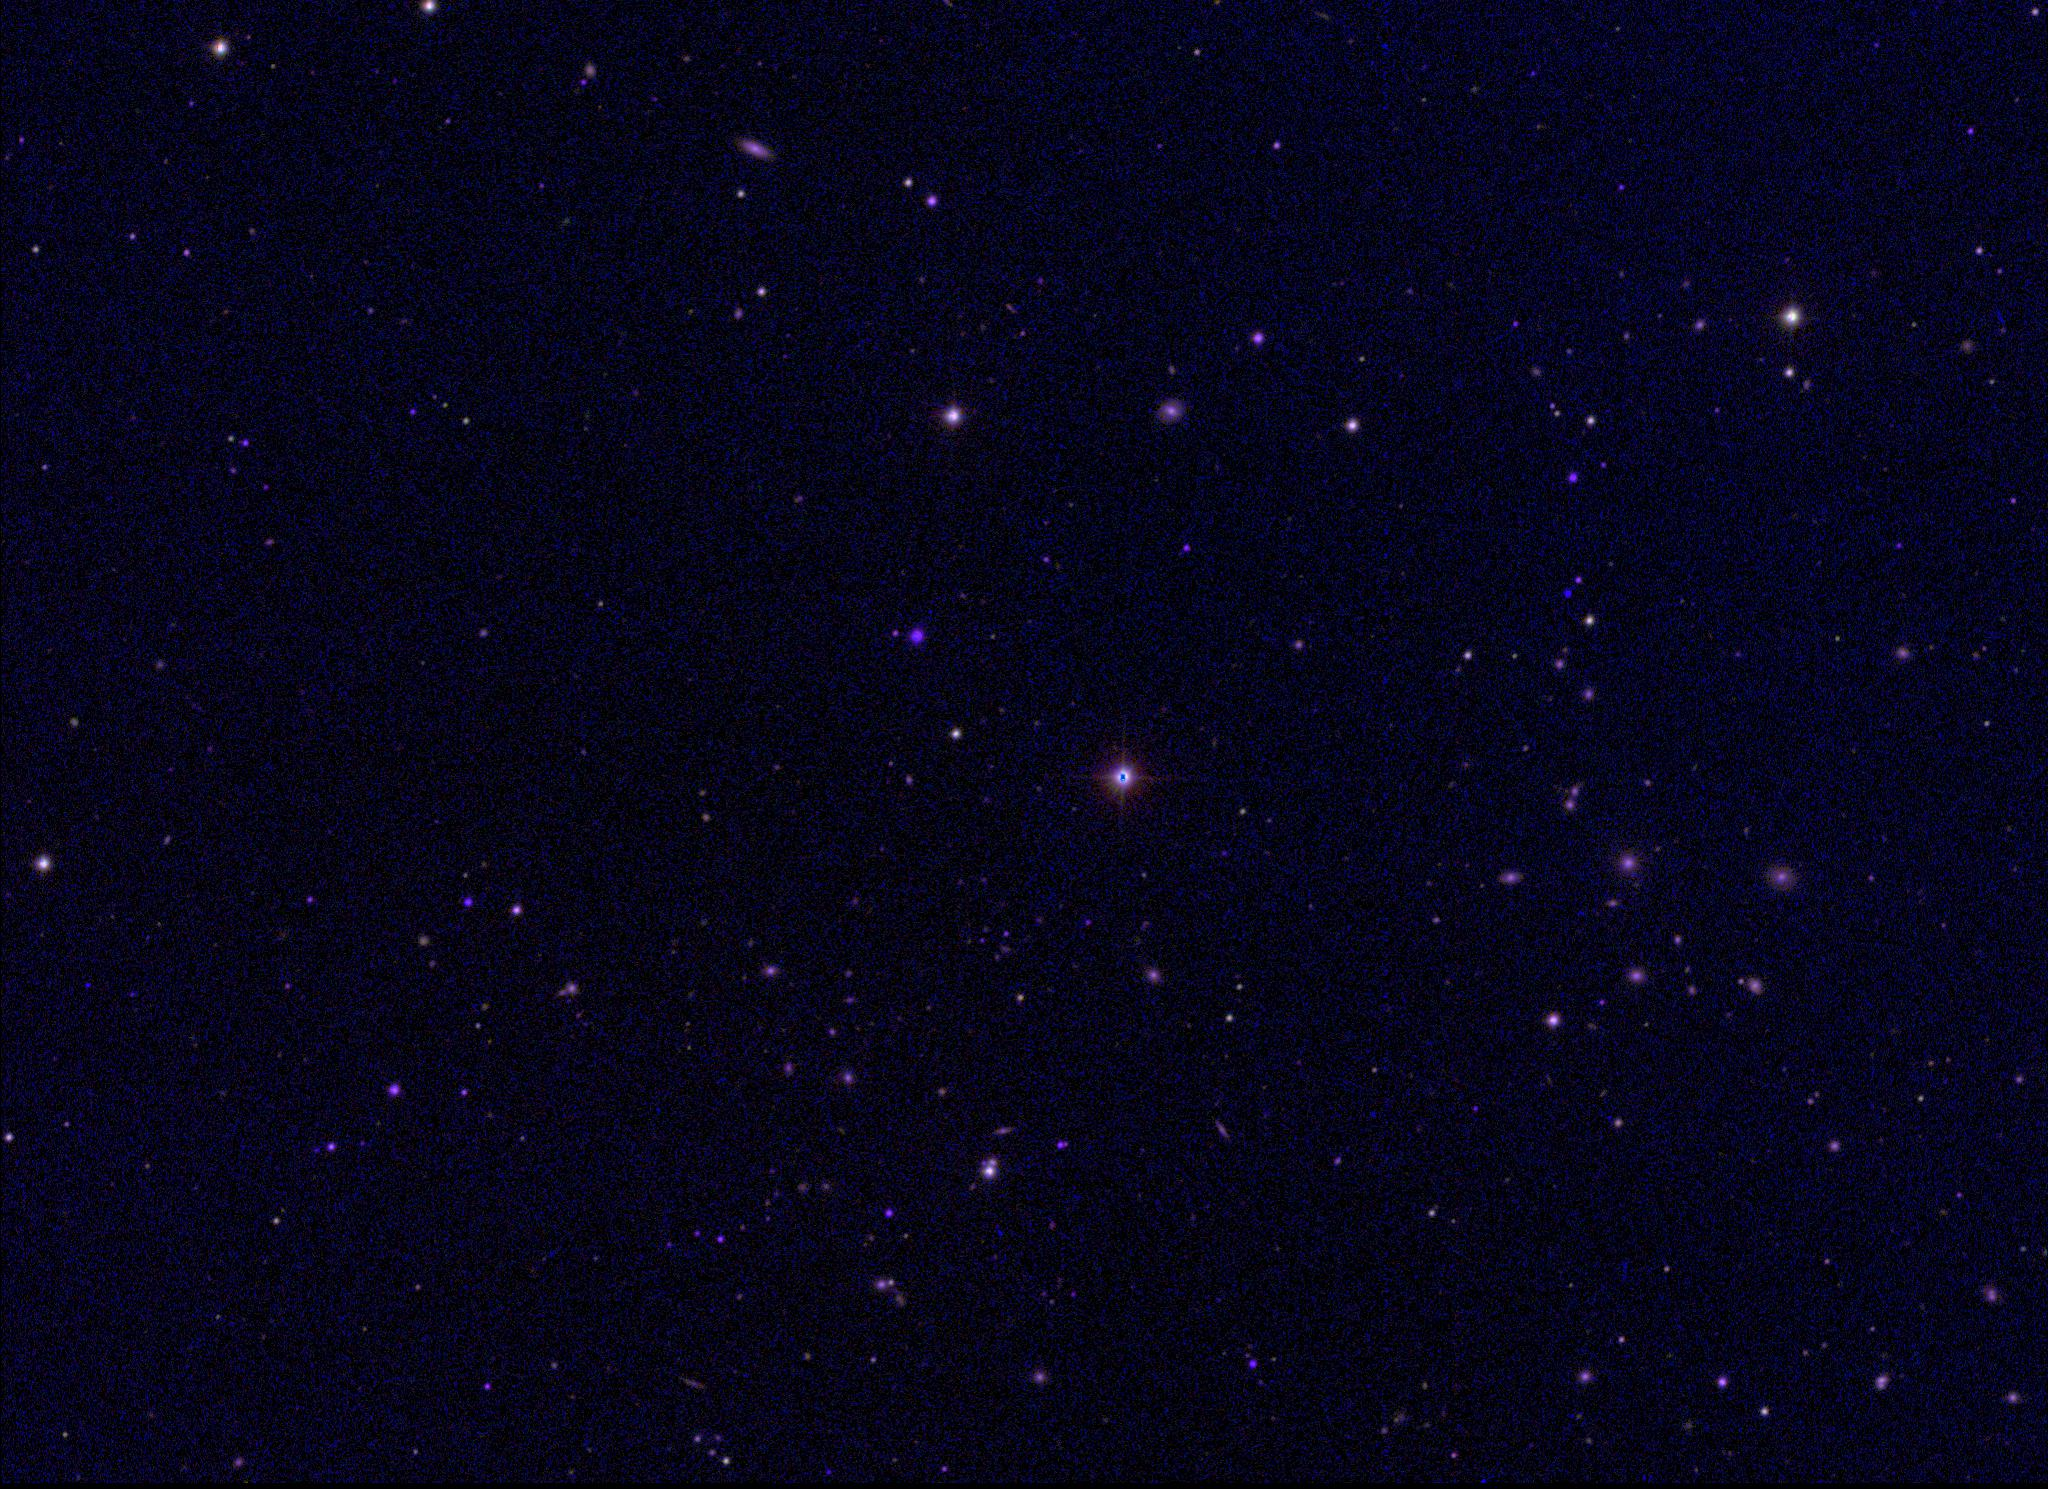L: (81, 978, 95, 993)
